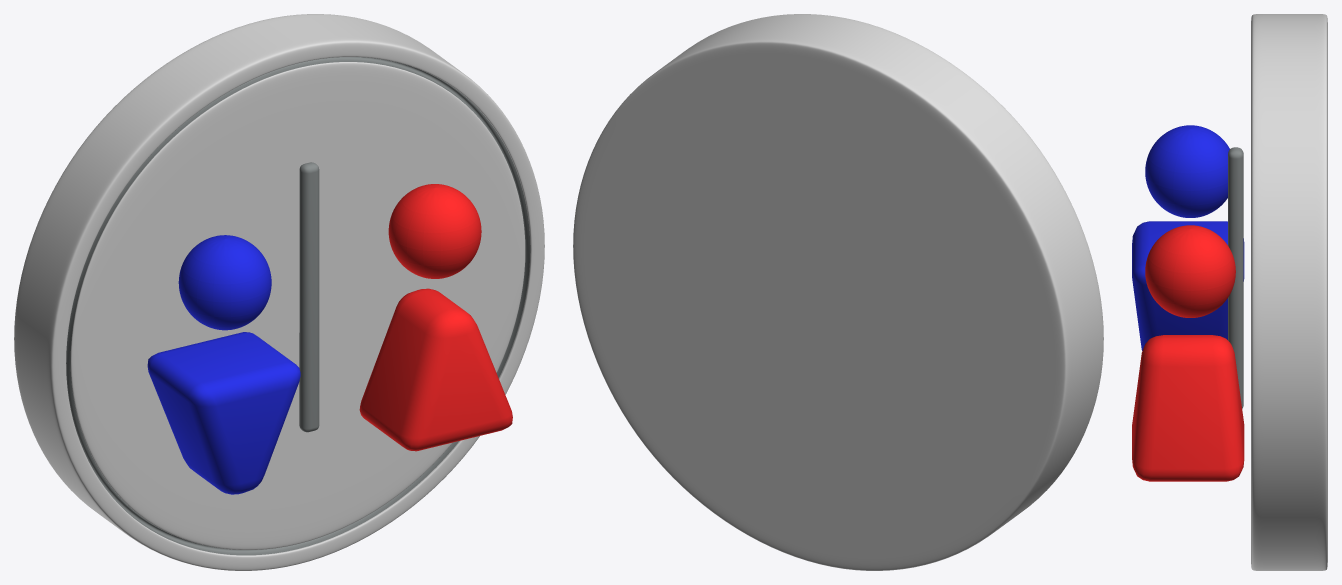
Rendered from toilet.fbx.
The picture shows the model from 3 angles, left to right: view 1: azimuth 30°, elevation 25°; view 2: azimuth 150°, elevation 25°; view 3: azimuth 270°, elevation 25°; orthographic projection. The views are drawn at different scales.
Visible parts, largest first — view 1: Cylinder, woman_body_1, man_body_1, man_head_1, woman_haed_1, line_1; view 2: Cylinder; view 3: Cylinder, woman_body_1, woman_haed_1, man_head_1, man_body_1, line_1.
Part boxes in pixels (x1=…): Cylinder: x1=14, y1=14, x2=544, y2=570; woman_body_1: x1=359, y1=288, x2=512, y2=451; man_body_1: x1=147, y1=332, x2=300, y2=494; man_head_1: x1=178, y1=235, x2=271, y2=330; woman_haed_1: x1=388, y1=184, x2=481, y2=278; line_1: x1=299, y1=162, x2=319, y2=432; Cylinder: x1=573, y1=14, x2=1103, y2=570; Cylinder: x1=1251, y1=14, x2=1327, y2=570; woman_body_1: x1=1132, y1=335, x2=1244, y2=481; woman_haed_1: x1=1145, y1=225, x2=1235, y2=317; man_head_1: x1=1145, y1=125, x2=1229, y2=217; man_body_1: x1=1132, y1=221, x2=1244, y2=350; line_1: x1=1228, y1=147, x2=1243, y2=408.
Size of the model in its own units: 26.84 by 26.84 by 9.42.
